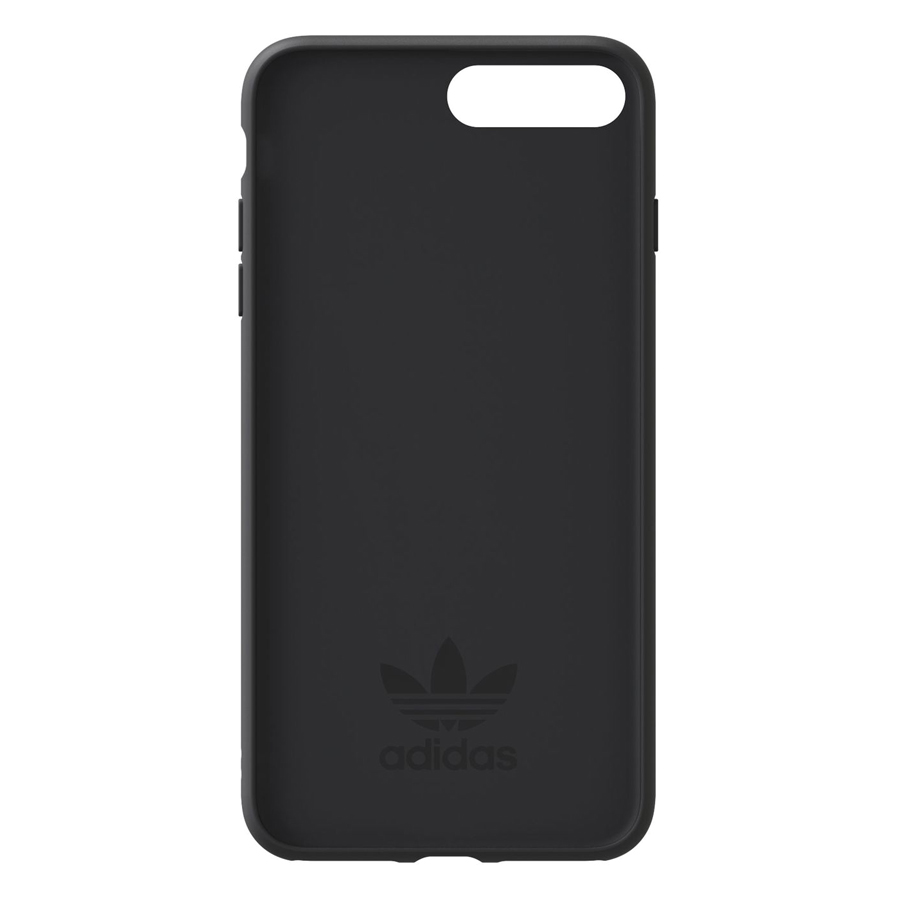Adidas: (373, 631, 524, 780)
